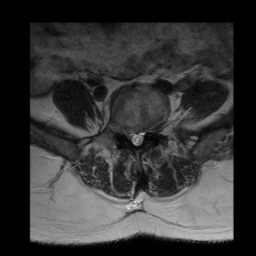CCS_stenosis: (134, 127, 139, 150)
LFS_stenosis: (146, 122, 152, 138)
LLS_normal: (140, 127, 145, 145)
RFS_normal: (123, 122, 130, 141)
RLS_normal: (130, 127, 135, 146)
